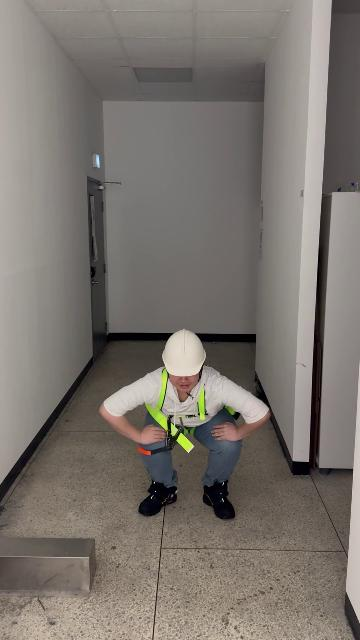helmet_worn: (161, 328, 206, 375)
shoe_worn: (138, 480, 177, 516), (203, 479, 235, 519)
vest_worn: (141, 366, 221, 452)
